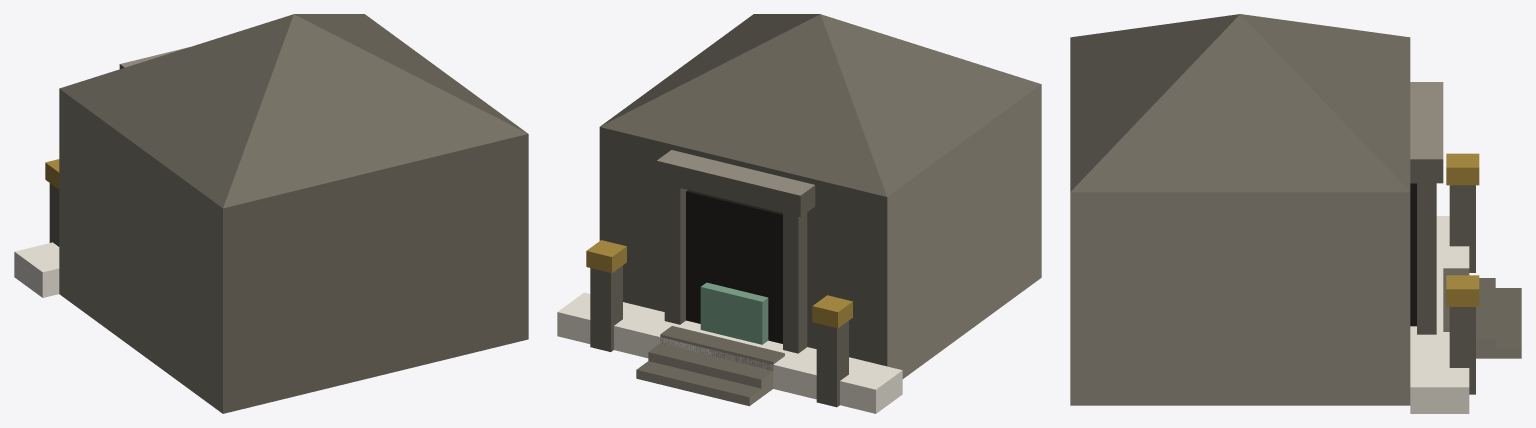
File: terr_immortalcave.glb
The picture shows the model from 3 angles, left to right: view 1: azimuth 30°, elevation 25°; view 2: azimuth 150°, elevation 25°; view 3: azimuth 270°, elevation 25°; orthographic projection. The views are drawn at different scales.
Parts seen in each view (by area): view 1: terr_immortalcave; view 2: terr_immortalcave; view 3: terr_immortalcave.
Part boxes in pixels (left/top/right/bottom): terr_immortalcave: left=14, top=14, right=528, bottom=413; terr_immortalcave: left=557, top=14, right=1041, bottom=413; terr_immortalcave: left=1070, top=14, right=1521, bottom=413.
Size of the model in its own units: 1.24 by 1.06 by 1.38.
1 material, 1 textured.
